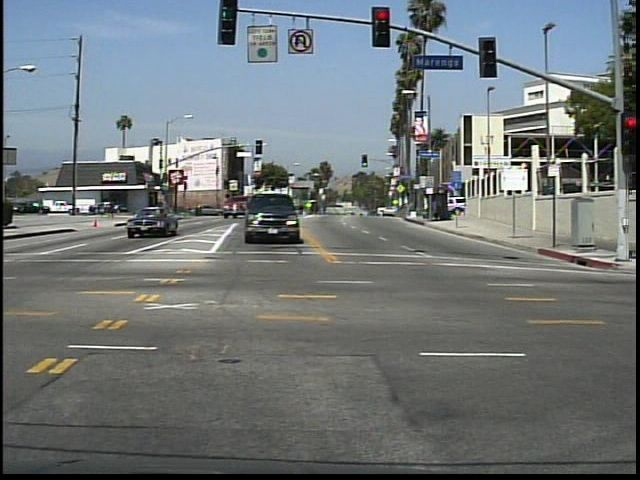person: (108, 197, 120, 223)
